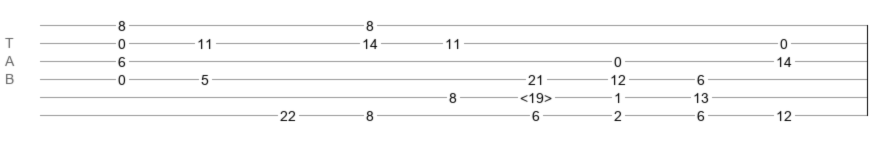0: (118, 72, 126, 82), (118, 36, 126, 46), (614, 54, 622, 64), (780, 36, 788, 46)
1: (614, 90, 622, 100)
11: (197, 36, 213, 46), (445, 36, 461, 46)
12: (610, 72, 626, 82), (776, 108, 792, 118)
13: (693, 90, 709, 100)
14: (362, 36, 378, 46), (776, 54, 792, 64)
2: (614, 108, 622, 118)
21: (528, 72, 544, 82)
22: (280, 108, 296, 118)
5: (201, 72, 209, 82)
6: (118, 54, 126, 64), (532, 108, 540, 118), (697, 72, 705, 82), (697, 108, 705, 118)
8: (118, 18, 126, 28), (366, 108, 374, 118), (366, 18, 374, 28), (449, 90, 457, 100)
harmonic: (520, 90, 552, 100)
